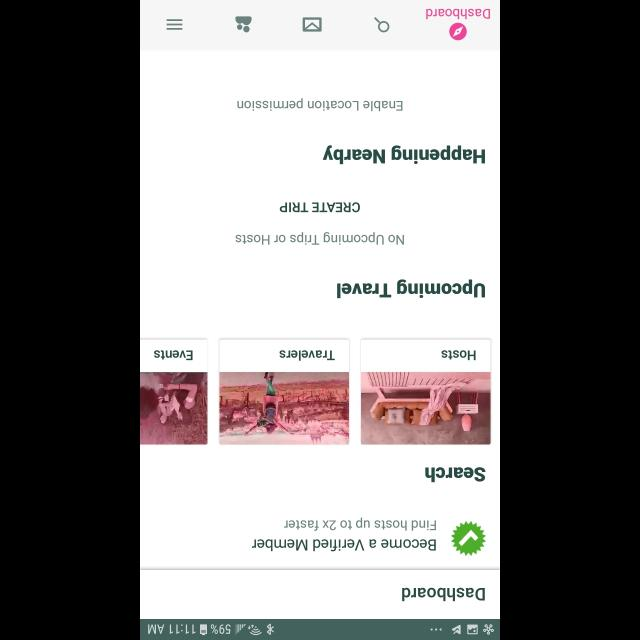icon: (450, 520, 486, 556), (449, 23, 467, 41), (302, 16, 322, 32), (235, 16, 252, 32), (374, 17, 390, 33), (166, 18, 182, 30)
image: (360, 372, 490, 444), (220, 372, 348, 444), (140, 372, 208, 444)
text: (252, 517, 436, 551), (322, 146, 486, 164), (337, 280, 485, 298), (238, 98, 402, 112), (236, 232, 404, 244), (402, 587, 484, 601), (279, 202, 359, 214), (425, 466, 485, 482), (426, 8, 490, 20), (279, 351, 335, 362), (154, 350, 193, 360), (441, 350, 475, 360)
uppertaskbar: (140, 618, 500, 640)
